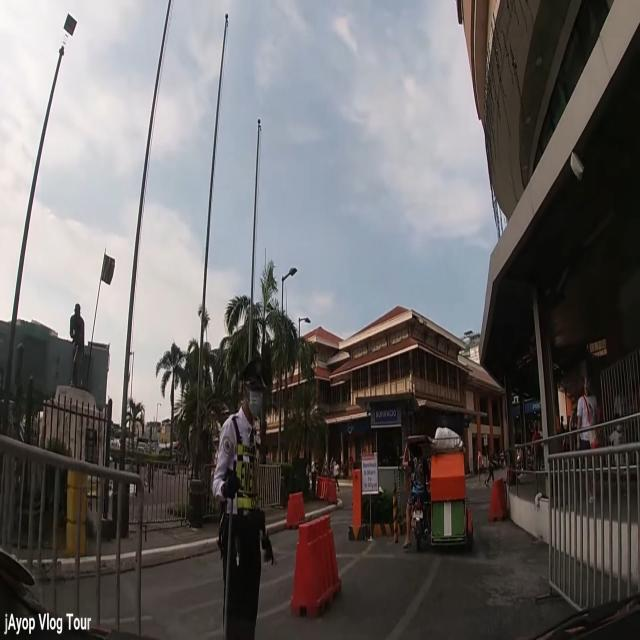tricycle: (402, 427, 474, 548)
